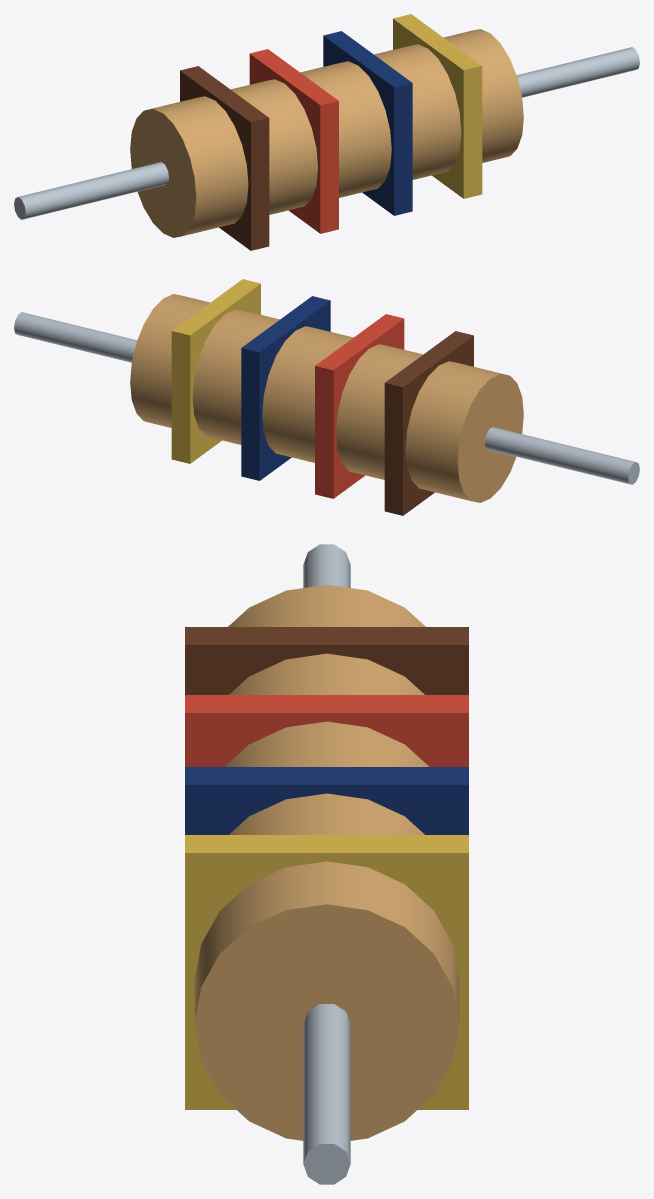
Rendered from resistor.glb.
3 views of the same model, one above another, from view 1: azimuth 30°, elevation 25°; view 2: azimuth 150°, elevation 25°; view 3: azimuth 270°, elevation 25° (orthographic). The views are drawn at different scales.
Bounding box in the file's own units: 1.5 × 0.3 × 0.3.
